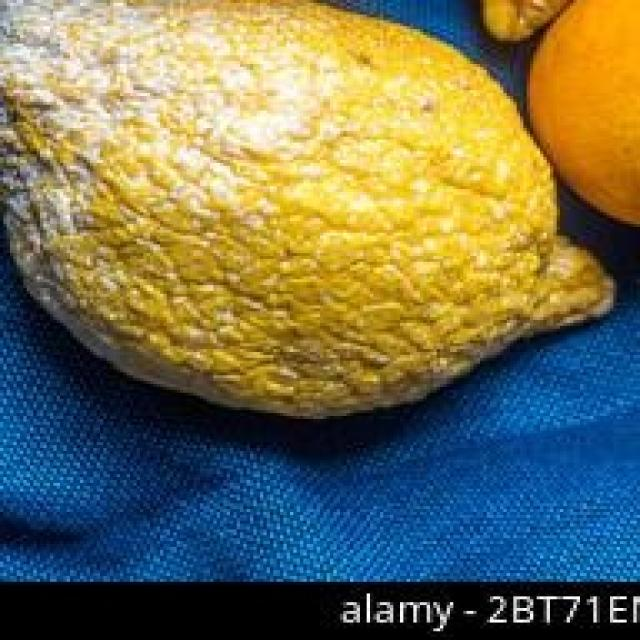overripe: (0, 0, 640, 422)
